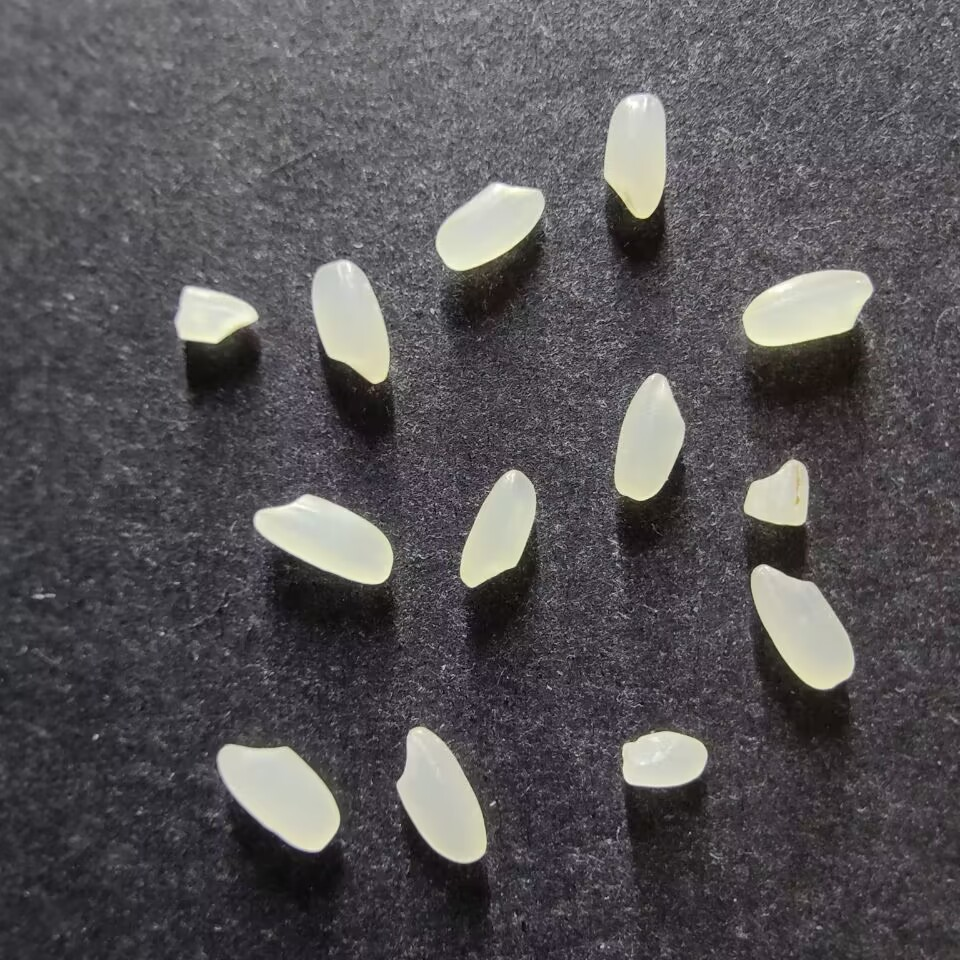broken: (619, 730, 709, 788), (173, 284, 259, 344), (742, 458, 808, 527)
rice: (216, 743, 340, 854), (749, 563, 855, 691), (394, 725, 488, 864), (252, 494, 394, 586), (742, 269, 873, 346), (310, 260, 390, 385), (434, 181, 545, 271), (458, 468, 537, 589), (612, 372, 685, 501), (602, 93, 667, 220)
